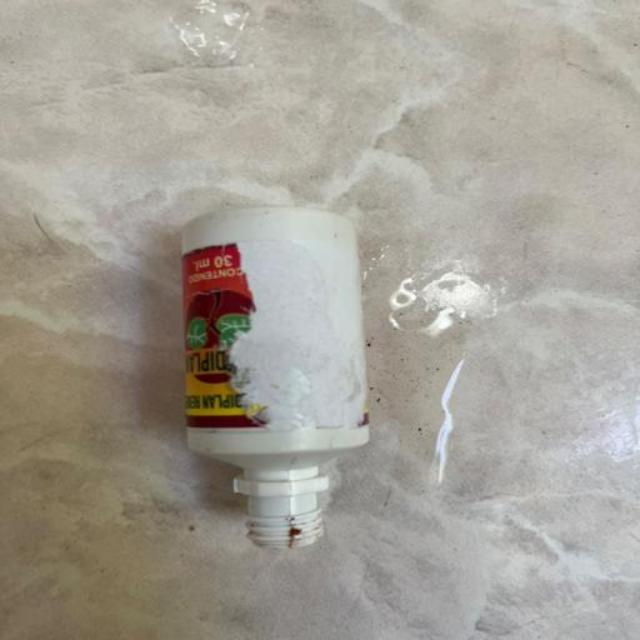HDPE: (148, 180, 399, 551)
